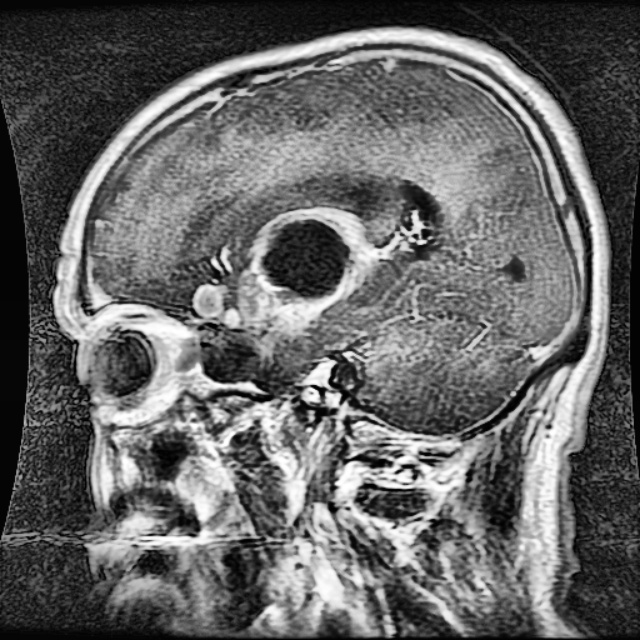Meningioma: (194, 207, 380, 357)
